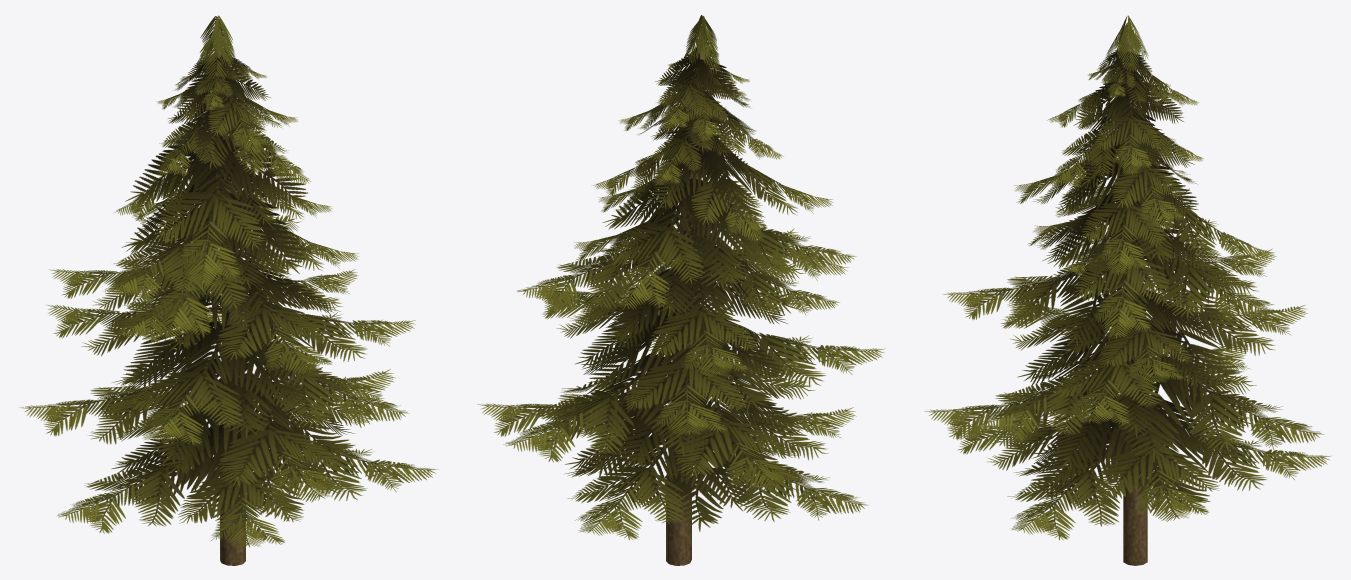
The model's file is pine_tree-76cab767.glb.
3 renders of one model, left to right at view 1: azimuth 30°, elevation 25°; view 2: azimuth 150°, elevation 25°; view 3: azimuth 270°, elevation 25°, orthographic. The views are drawn at different scales.
Visible parts, largest first — view 1: Leaves/001_Leavs_0, Trank.001_Trank_0; view 2: Leaves/001_Leavs_0, Trank.001_Trank_0; view 3: Leaves/001_Leavs_0, Trank.001_Trank_0.
Part boxes in pixels (x1,y1,x2,y2): Leaves/001_Leavs_0: [19, 15, 438, 548]; Trank.001_Trank_0: [214, 29, 245, 565]; Leaves/001_Leavs_0: [477, 15, 885, 540]; Trank.001_Trank_0: [666, 28, 705, 565]; Leaves/001_Leavs_0: [924, 15, 1331, 540]; Trank.001_Trank_0: [1121, 28, 1147, 565].
Size of the model in its own units: 217 by 308 by 217.
2 materials, 2 textured.
